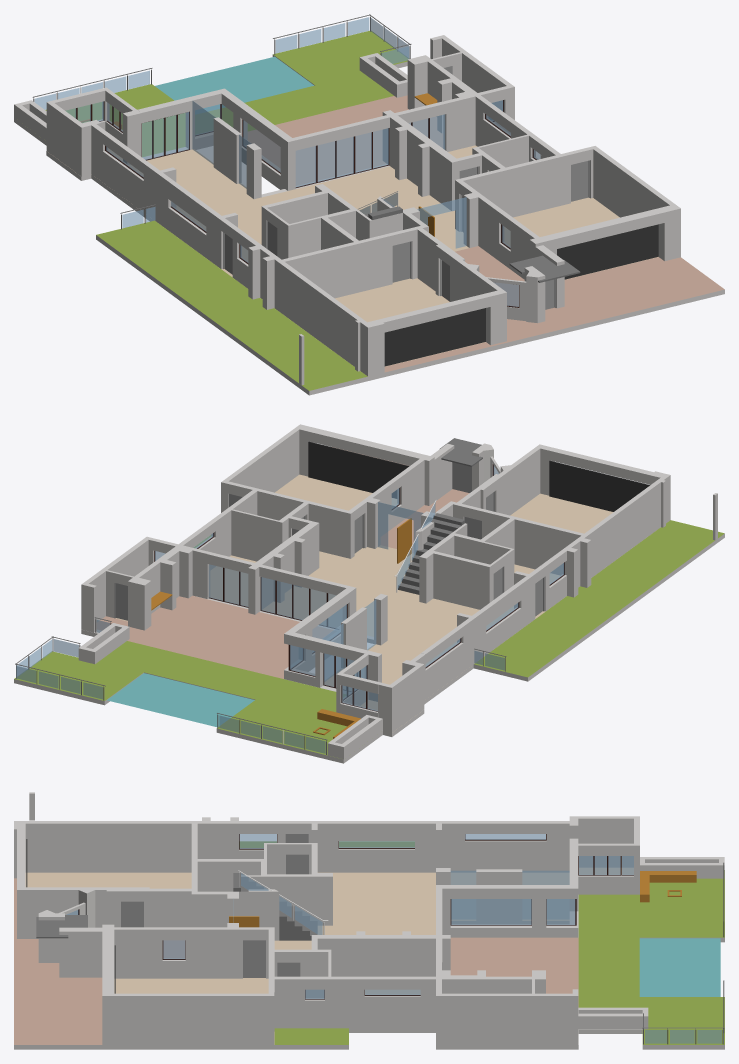
File: GroundFloor.glb
3 views of the same model, one above another, from view 1: azimuth 30°, elevation 25°; view 2: azimuth 150°, elevation 25°; view 3: azimuth 270°, elevation 25° (orthographic). The views are drawn at different scales.
Visible parts, largest first — view 1: Box058, Box028, Box026, Box013, Box014, Box010, Box025, PoolSurface, Box018, Box174, Box024, Box016 (+23 smaller); view 2: Box058, Box028, Box026, Box013, Box025, Box010, PoolSurface, Box014, Box018, Box173, Box174, Box011 (+19 smaller); view 3: Box058, Box026, Box028, Box018, Box011, Box013, Box016, PoolSurface, Box010, Box024, Box012, Box025 (+22 smaller).
Part boxes in pixels (box(x1,y1,x2,y2)): Box058: box(14, 30, 724, 395); Box028: box(237, 184, 457, 376); Box026: box(430, 35, 680, 261); Box013: box(293, 101, 459, 211); Box014: box(455, 144, 590, 231); Box010: box(379, 254, 526, 345); Box025: box(407, 55, 487, 151); PoolSurface: box(155, 56, 313, 113); Box018: box(103, 132, 176, 229); Box174: box(384, 308, 485, 366); Box024: box(46, 98, 107, 182); Box016: box(168, 180, 237, 269); Box058: box(14, 447, 724, 763); Box028: box(415, 471, 670, 609); Box026: box(81, 424, 414, 632); Box013: box(207, 521, 348, 614); Box025: box(128, 539, 209, 630); Box010: box(490, 444, 653, 515); PoolSurface: box(107, 673, 254, 726); Box014: box(228, 482, 365, 558); Box018: box(421, 609, 486, 698); Box173: box(308, 441, 409, 498); Box174: box(549, 460, 650, 511); Box011: box(387, 443, 454, 528); Box058: box(14, 841, 724, 1049); Box026: box(102, 935, 578, 1044); Box028: box(14, 817, 332, 940); Box018: box(415, 821, 546, 872); Box011: box(59, 924, 185, 978); Box013: box(311, 888, 450, 976); Box016: box(285, 821, 415, 872); PoolSurface: box(639, 938, 720, 996); Box010: box(17, 829, 120, 938); Box024: box(546, 816, 639, 872); Box012: box(185, 923, 242, 978); Box025: box(420, 962, 545, 1028).
Size of the model in its own units: 22.68 by 3.84 by 33.44.
